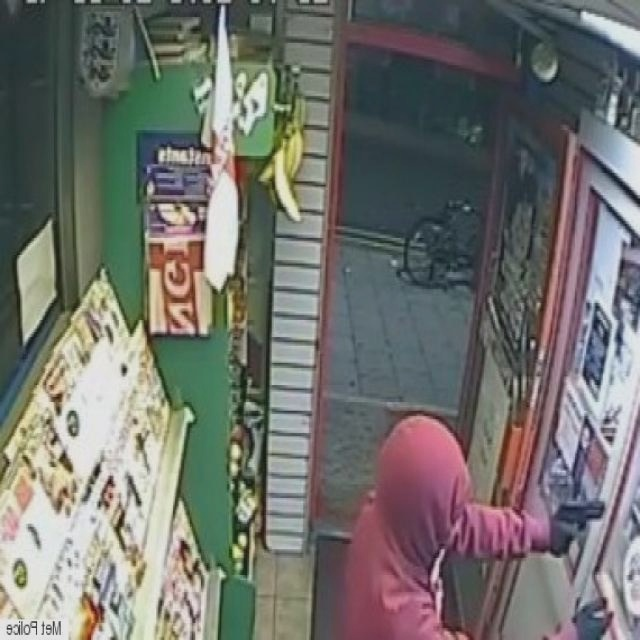gun: (529, 483, 614, 575)
